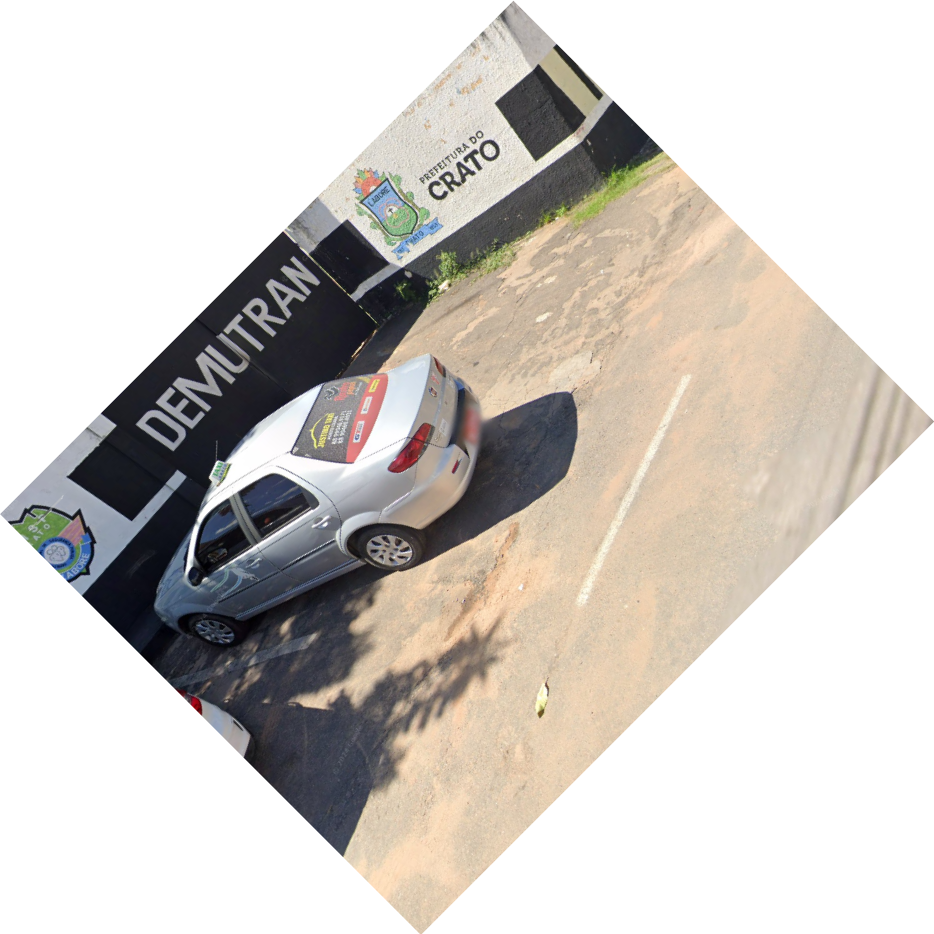car: (136, 347, 492, 652)
